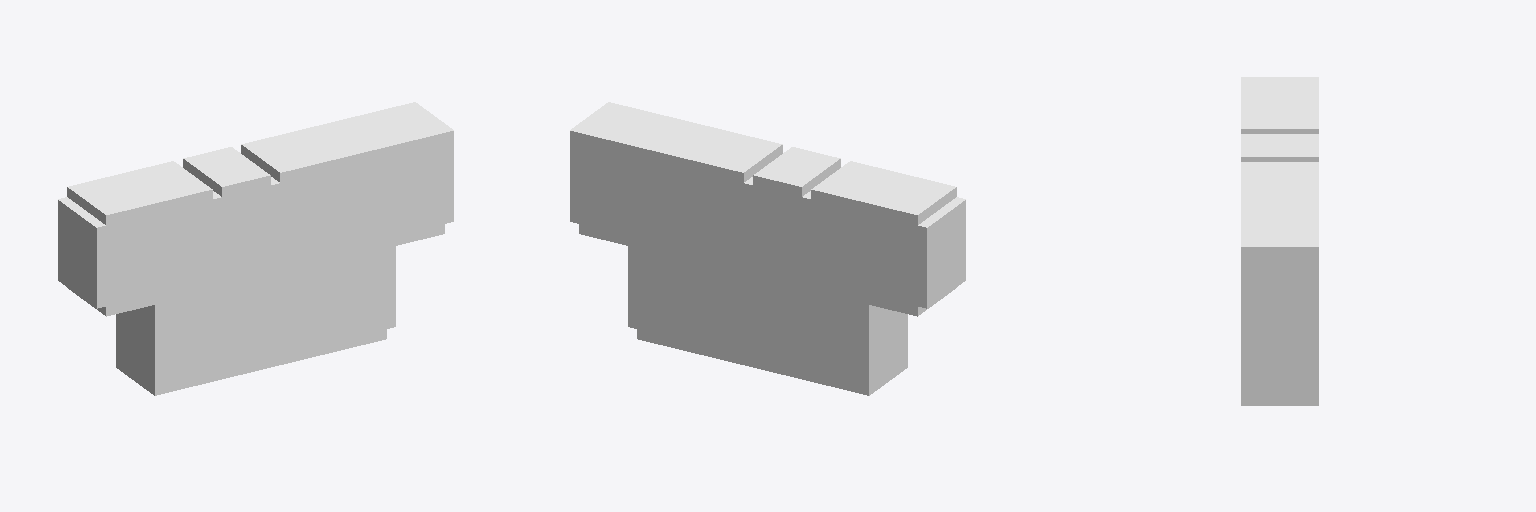
File: title.obj
3 renders of one model, left to right at view 1: azimuth 30°, elevation 25°; view 2: azimuth 150°, elevation 25°; view 3: azimuth 270°, elevation 25°, orthographic.
Parts seen in each view (by area): view 1: title; view 2: title; view 3: title.
Boxes of the visible parts, box(x1,y1,x2,y2) form: title: box(58, 102, 453, 395); title: box(570, 102, 965, 395); title: box(1241, 77, 1318, 405).
Bounding box in the file's own units: 37 × 19 × 7.